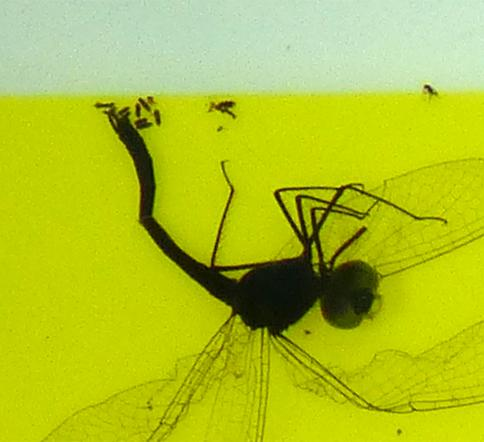Odonata: (100, 100, 384, 342)
